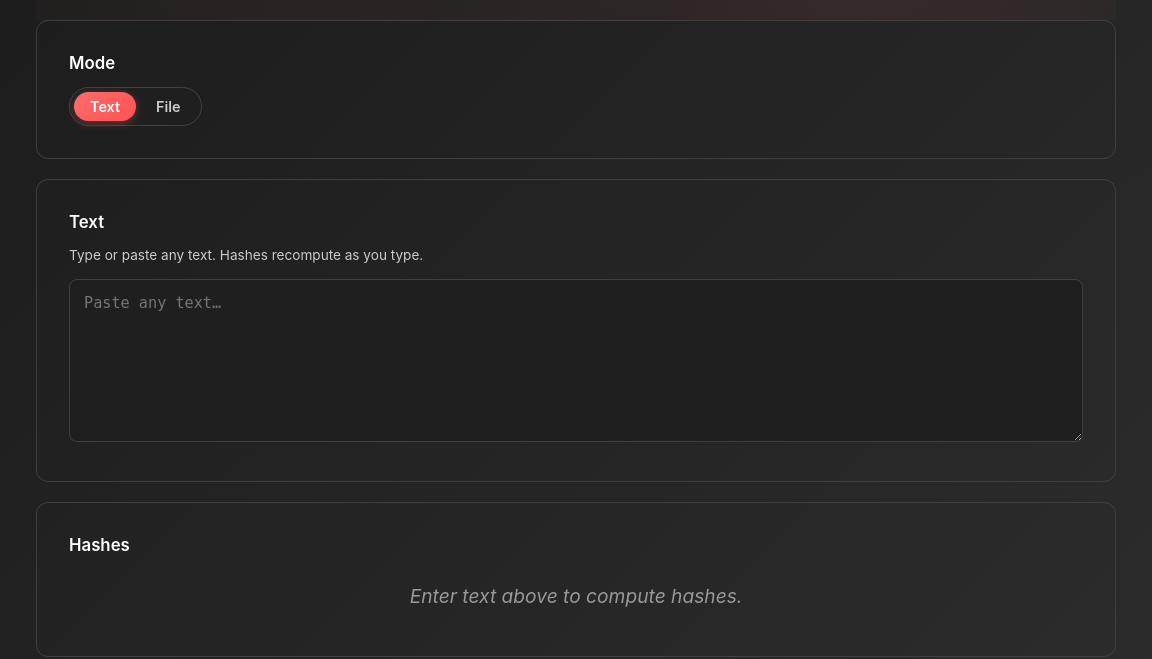
Test: <HashGenerator /> › typing text computes the canonical SHA-256 of "abc"
(page scrolled)
In the text box named "text to hash": {"x": 576, "y": 360} x1=69 y1=279 x2=1083 y2=442, type "abc"
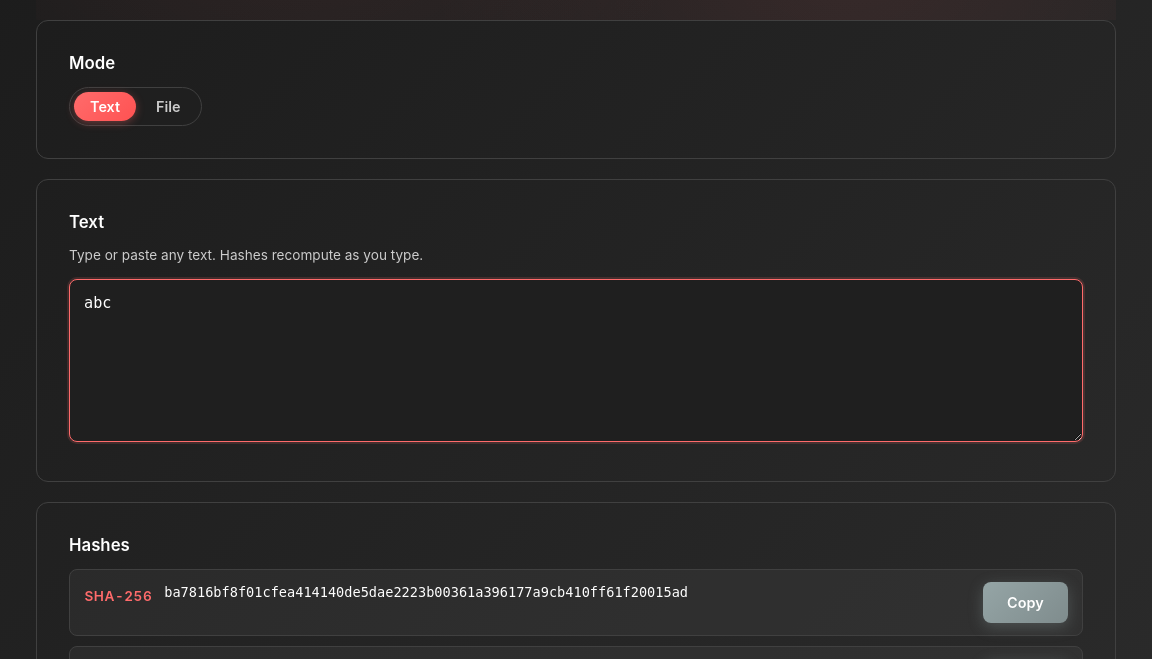
Now the text "ba7816bf8f01cfea414140de5dae2223b00361a396177a9cb410ff61f20015ad" is shown, box x1=164 y1=584 x2=688 y2=600
